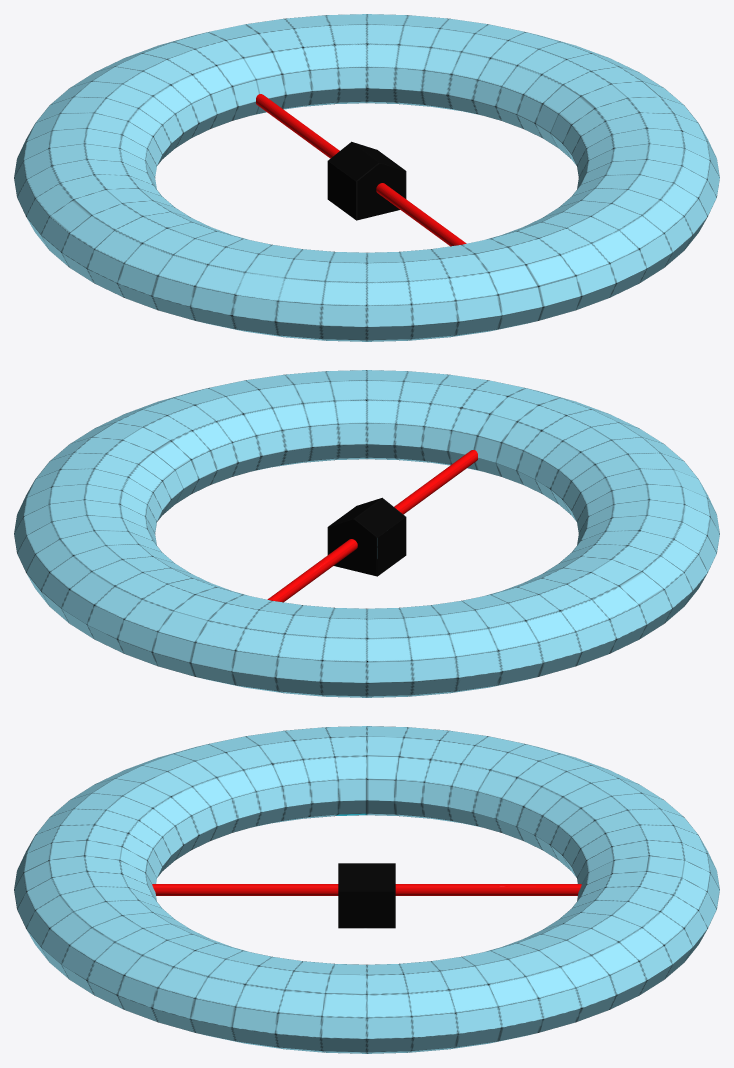
File: singularity_nuke.obj
3 views of the same model, one above another, from view 1: azimuth 30°, elevation 25°; view 2: azimuth 150°, elevation 25°; view 3: azimuth 270°, elevation 25° (orthographic).
Parts seen in each view (by area): view 1: Torus; view 2: Torus; view 3: Torus.
Boxes of the visible parts, x1,y1,x2,y2 form: Torus: [14, 14, 719, 341]; Torus: [14, 370, 719, 697]; Torus: [14, 726, 719, 1053].
Size of the model in its own units: 24.58 by 2.64 by 24.58.
